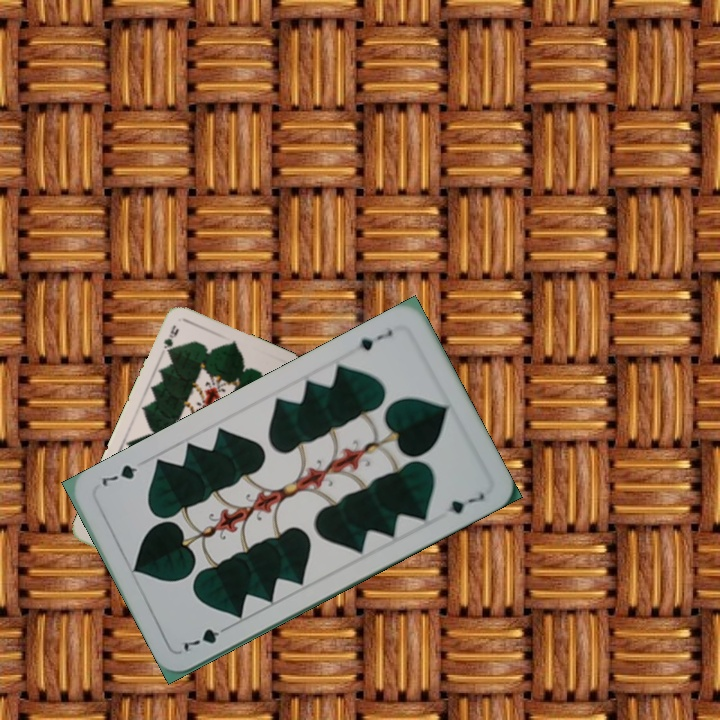G7: (179, 621, 232, 655), (348, 325, 395, 354)
G9: (159, 321, 181, 358)
